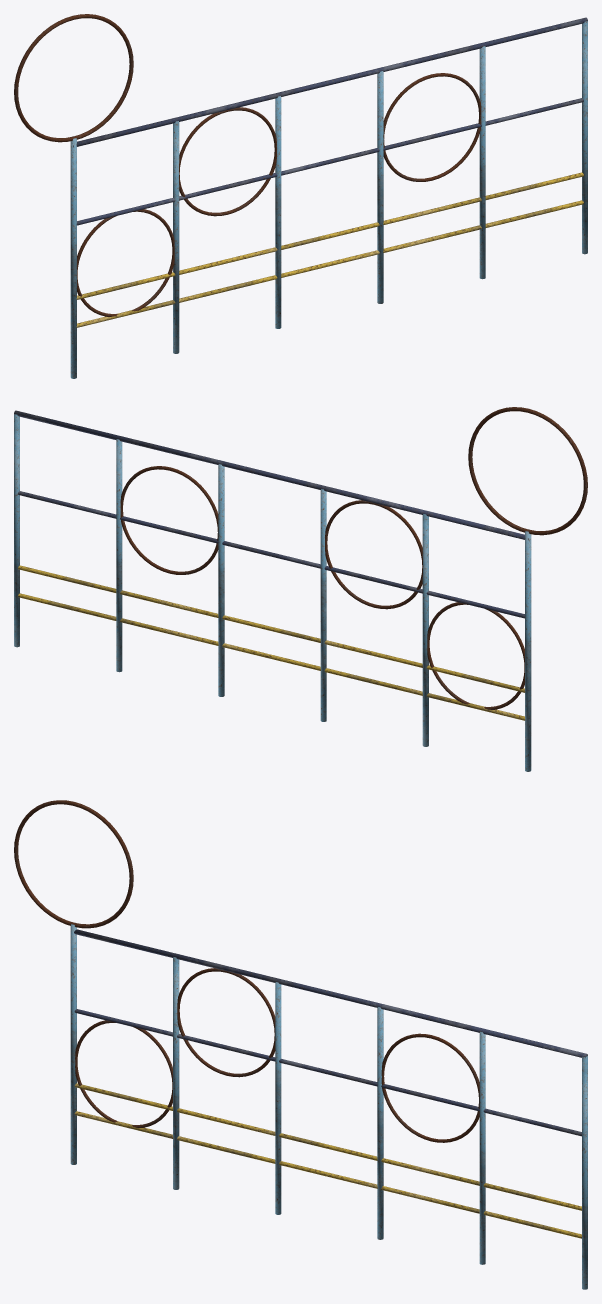
Rendered from playground_ring_climber_web.glb.
3 views of the same model, one above another, from view 1: azimuth 30°, elevation 25°; view 2: azimuth 150°, elevation 25°; view 3: azimuth 330°, elevation 25° (orthographic).
Visible parts, largest first — view 1: RingClimber_Mesh; view 2: RingClimber_Mesh; view 3: RingClimber_Mesh.
Boxes of the visible parts, box(x1,y1,x2,y2) form: RingClimber_Mesh: box(14, 14, 587, 378); RingClimber_Mesh: box(14, 407, 587, 771); RingClimber_Mesh: box(14, 800, 587, 1289).
Bounding box in the file's own units: 6.45 × 3.89 × 0.0598.
4 materials, 4 textured.
